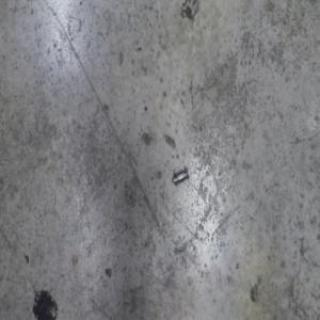Bolttrack_idkeyframe: (170, 168, 187, 188)
